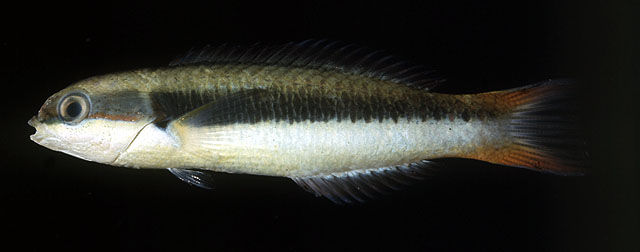fish: (26, 50, 571, 206)
